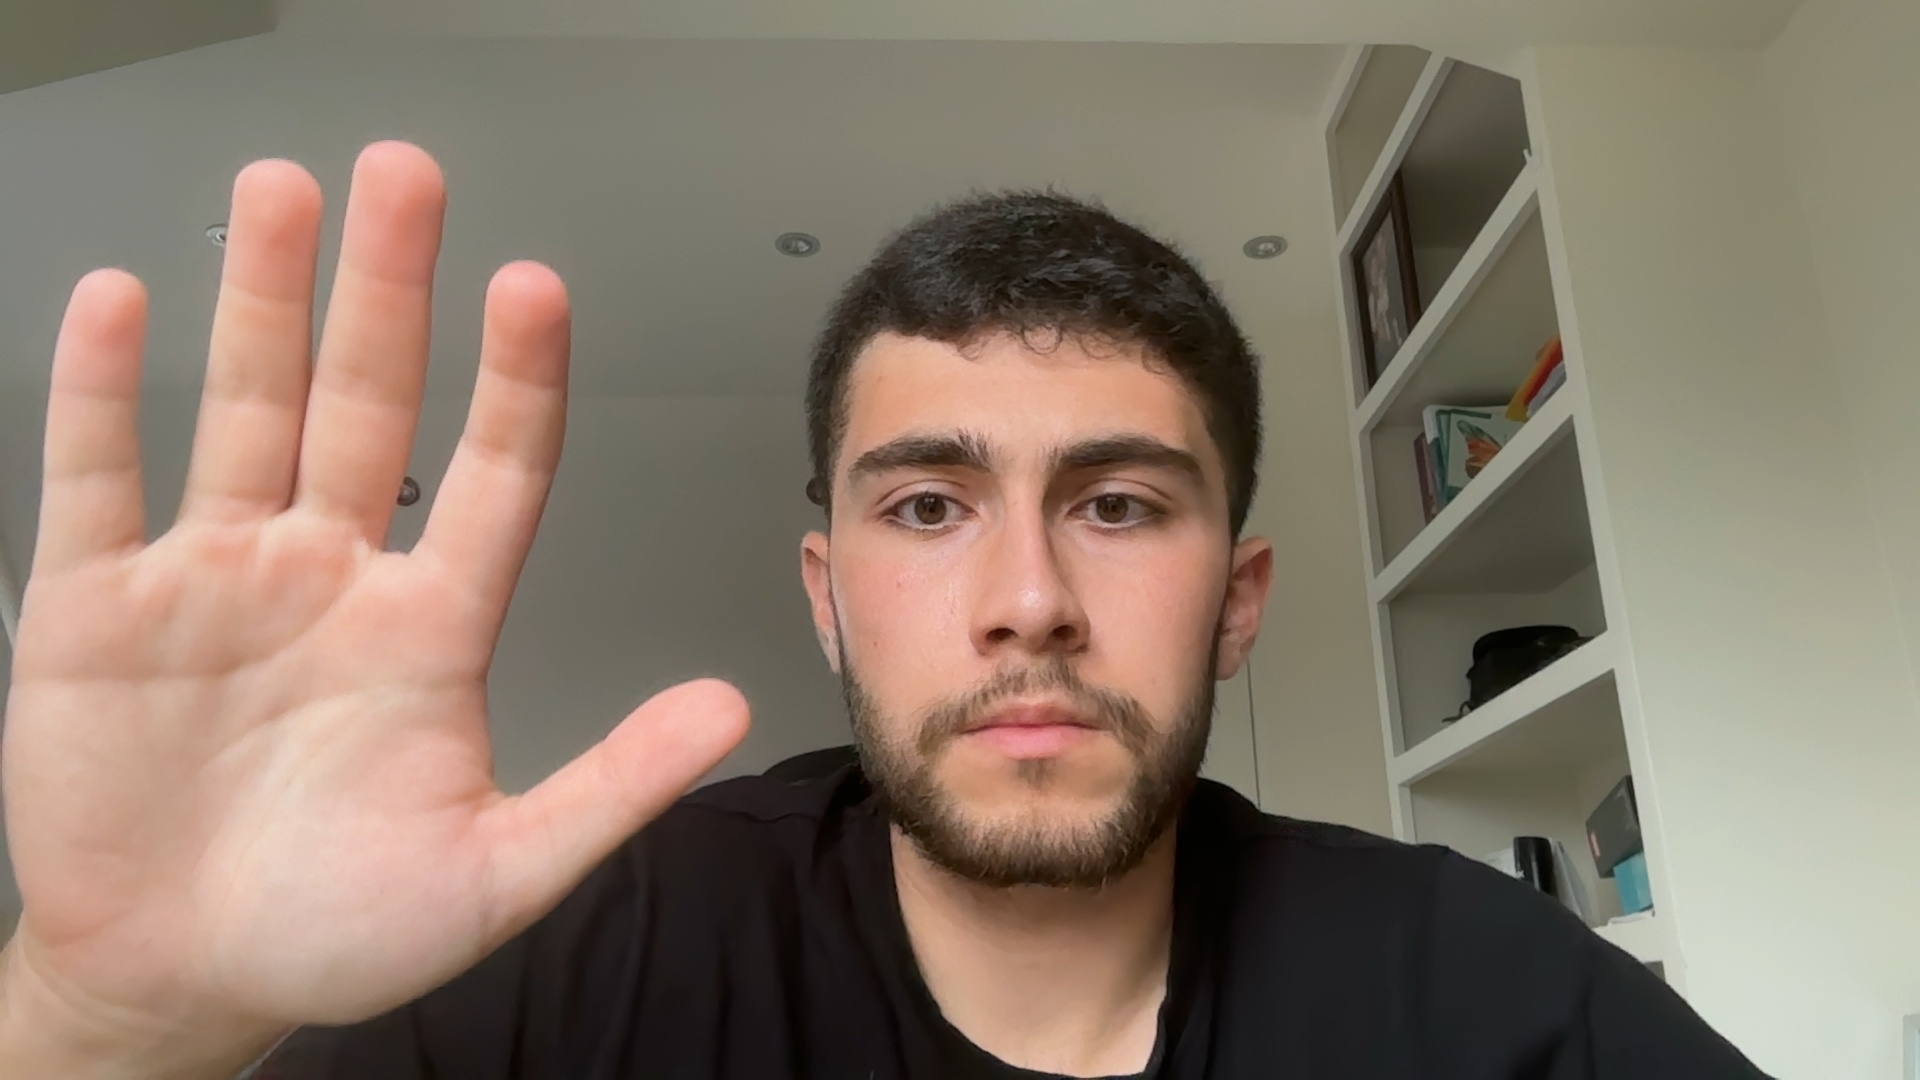Hello: (1, 111, 767, 1072)
